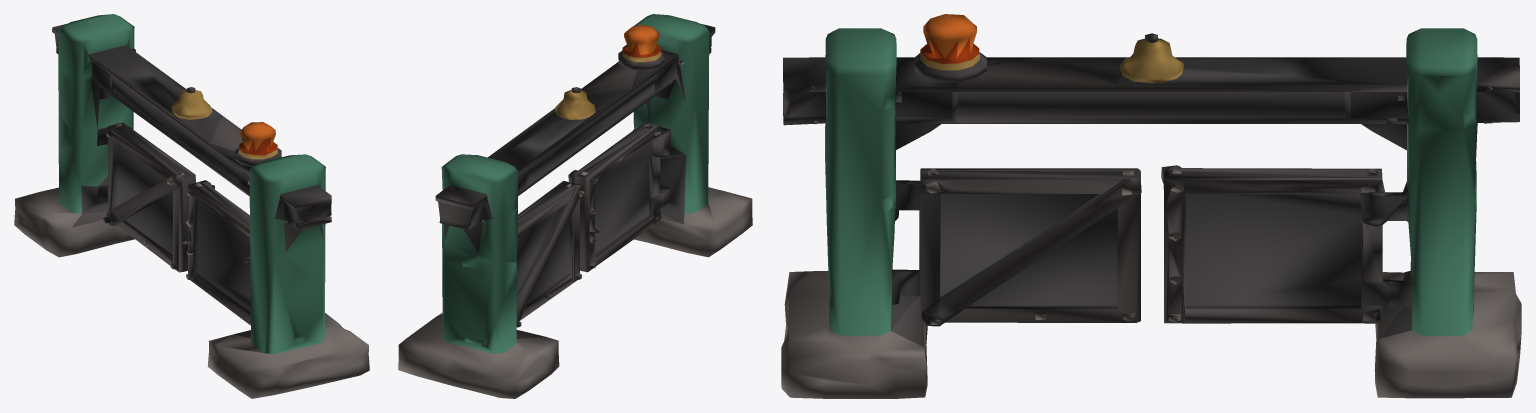
The model's file is poi_yard_gate_lod1.glb.
3 views of the same model, side by side, from view 1: azimuth 30°, elevation 25°; view 2: azimuth 150°, elevation 25°; view 3: azimuth 270°, elevation 25° (orthographic). The views are drawn at different scales.
Parts seen in each view (by area): view 1: YardGate; view 2: YardGate; view 3: YardGate.
Part boxes in pixels (box(x1,y1,x2,y2)): YardGate: box(14, 14, 369, 398); YardGate: box(398, 14, 752, 398); YardGate: box(781, 14, 1521, 398).
Bounding box in the file's own units: 2.3 × 4 × 8.
